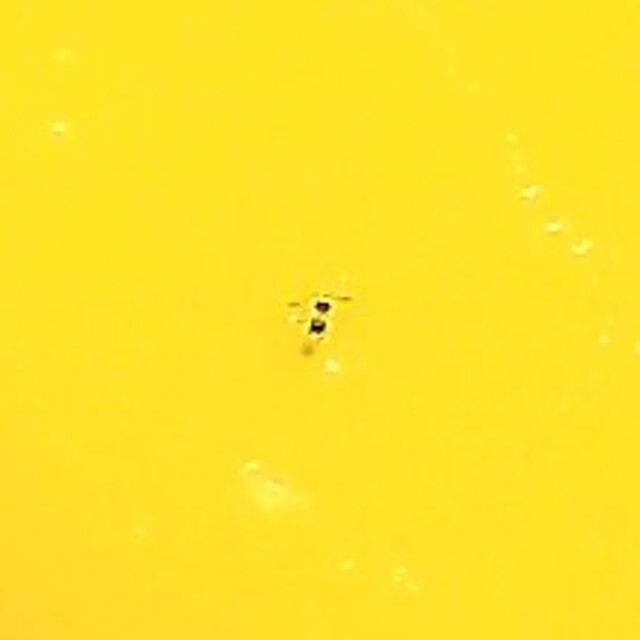Hymenoptera: (291, 286, 349, 354)
